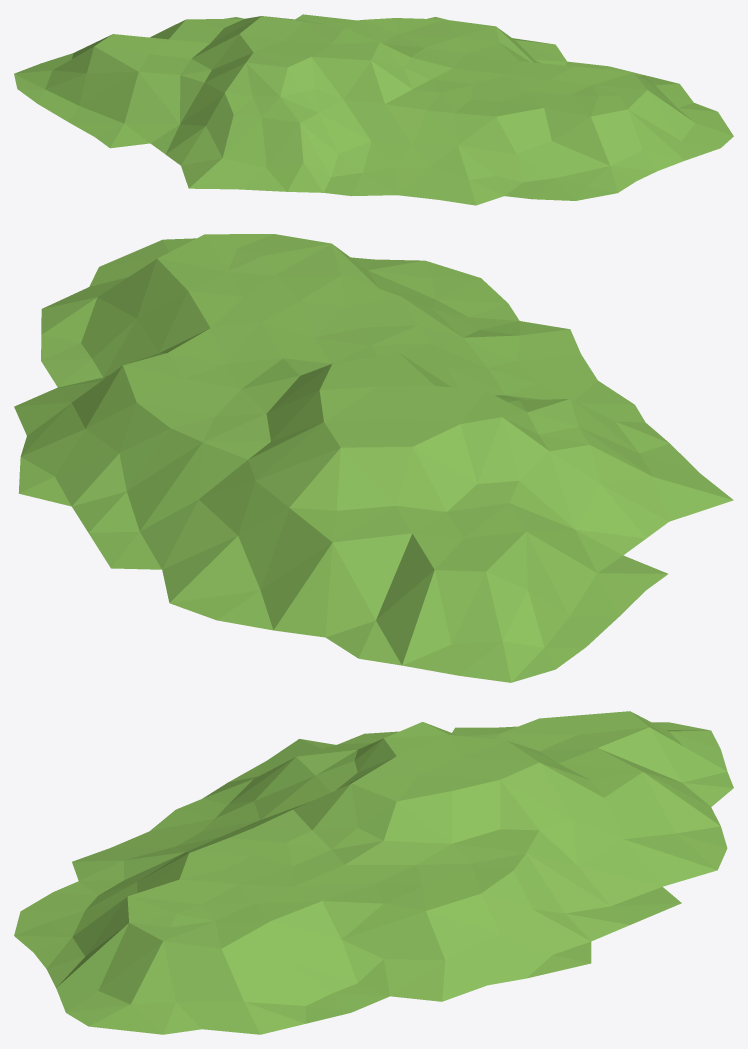
Rendered from MT_Mountain_M_b_12.fbx.
3 views of the same model, one above another, from view 1: azimuth 30°, elevation 25°; view 2: azimuth 150°, elevation 25°; view 3: azimuth 270°, elevation 25° (orthographic). The views are drawn at different scales.
Visible parts, largest first — view 1: MT_Mountain_M_b_12; view 2: MT_Mountain_M_b_12; view 3: MT_Mountain_M_b_12.
Part boxes in pixels (left/top/right/bottom): MT_Mountain_M_b_12: left=14, top=14, right=733, bottom=205; MT_Mountain_M_b_12: left=14, top=234, right=733, bottom=682; MT_Mountain_M_b_12: left=14, top=711, right=733, bottom=1034.
Bounding box in the file's own units: 4453 × 550 × 4336.
